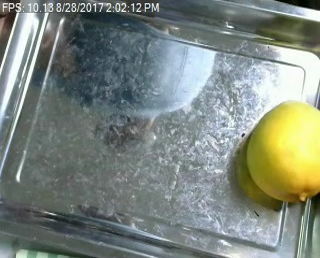Mango: (243, 99, 320, 200)
